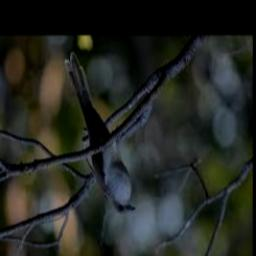Cuckoo: (65, 53, 137, 215)
